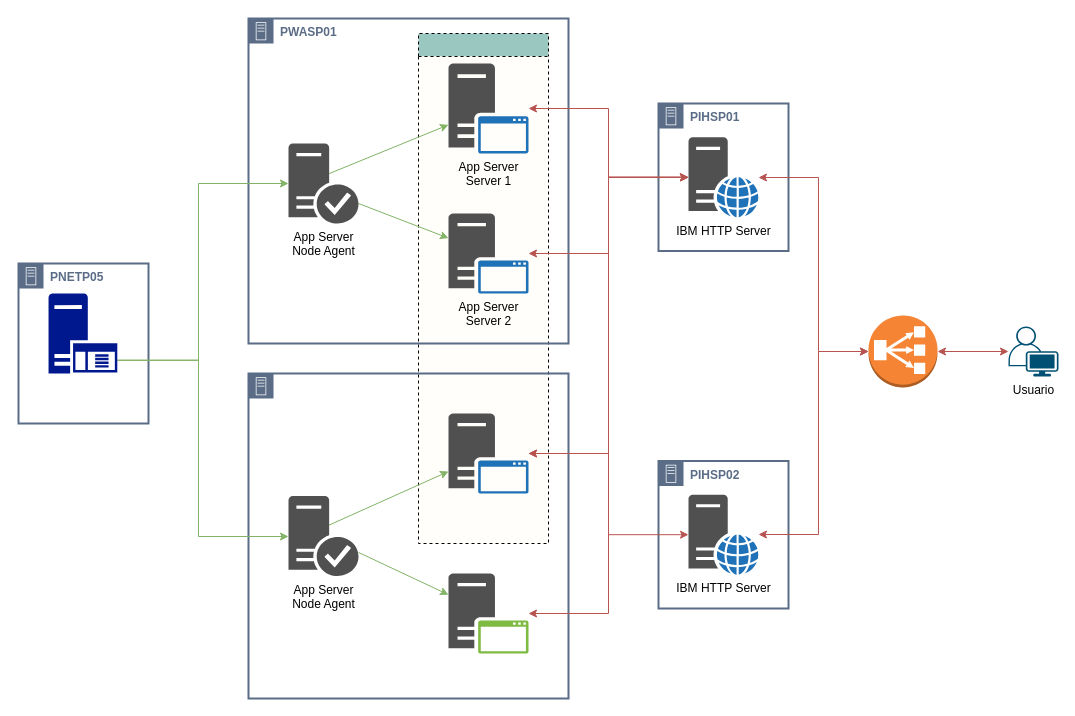
The diagram is 1075 pixels wide and 716 high, and some of its shapes have lost their labels. The box of each missing label's shape, as (x1, y1, x2, y2) in pixels:
App Server Custom Server: (448, 573, 528, 653)
App Server Deployment Manager: (48, 293, 117, 373)
App Server Server 3: (448, 413, 528, 493)
Balanceador: (867, 314, 938, 388)
Cluster: (418, 32, 548, 544)
PWASP02: (247, 372, 569, 699)
